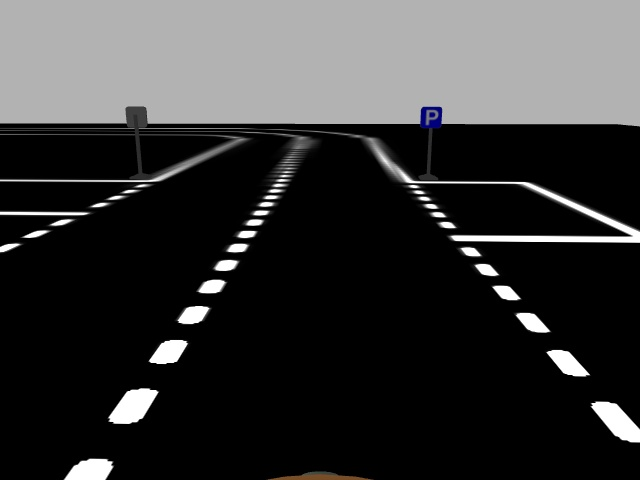parking: (419, 105, 443, 129)
